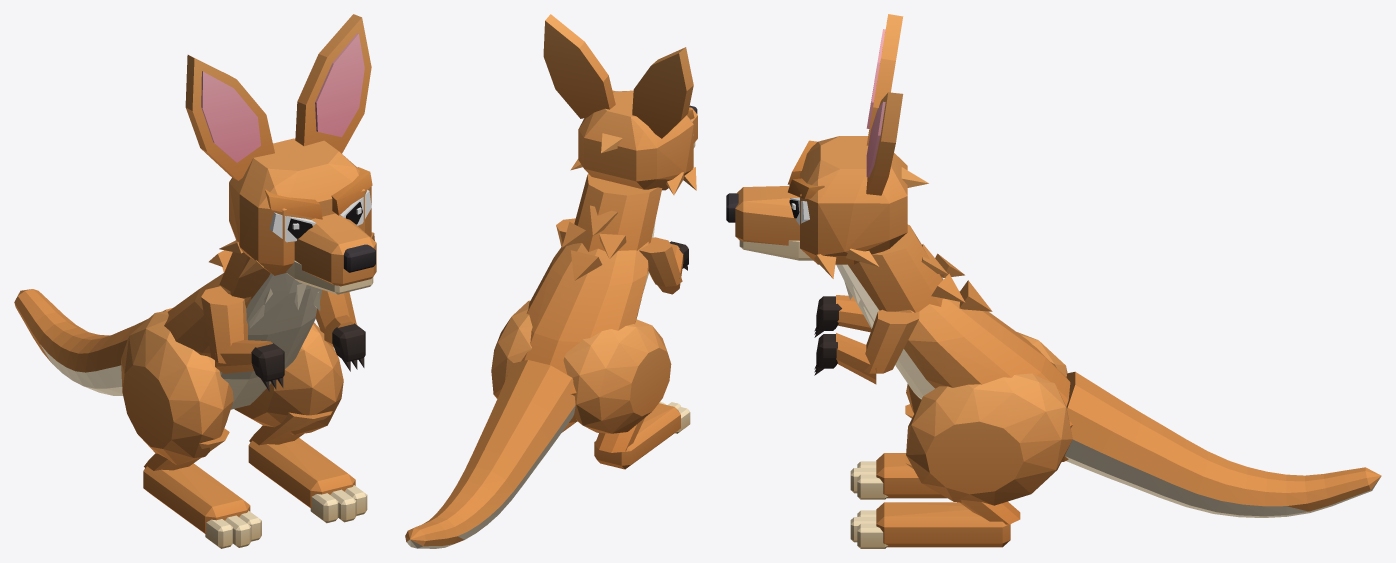
The model's file is ringside_roo.glb.
The picture shows the model from 3 angles, left to right: view 1: azimuth 30°, elevation 25°; view 2: azimuth 150°, elevation 25°; view 3: azimuth 270°, elevation 25°; orthographic projection. The views are drawn at different scales.
Parts seen in each view (by area): view 1: ringside_roo; view 2: ringside_roo; view 3: ringside_roo.
Part boxes in pixels (x1,y1,x2,y2): ringside_roo: (14, 14, 376, 548); ringside_roo: (405, 14, 697, 548); ringside_roo: (726, 14, 1381, 548).
Bounding box in the file's own units: 0.4421 × 1.14 × 1.46.
Materials: 1 (1 with a texture image).
